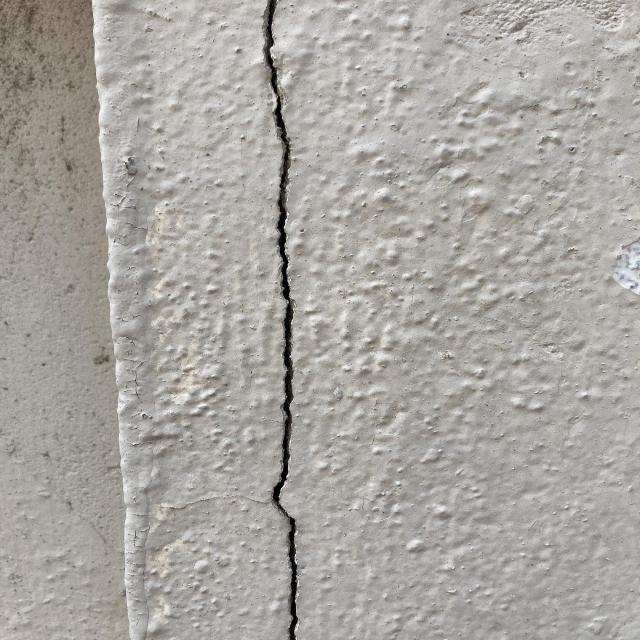SurfaceCrack: (216, 1, 349, 640)
